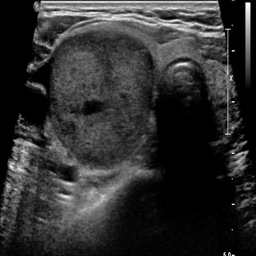mass: (52, 24, 154, 169)
